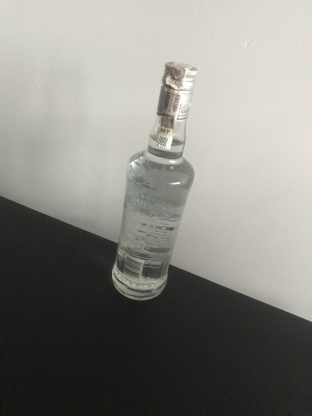nakretka: (155, 60, 198, 122)
